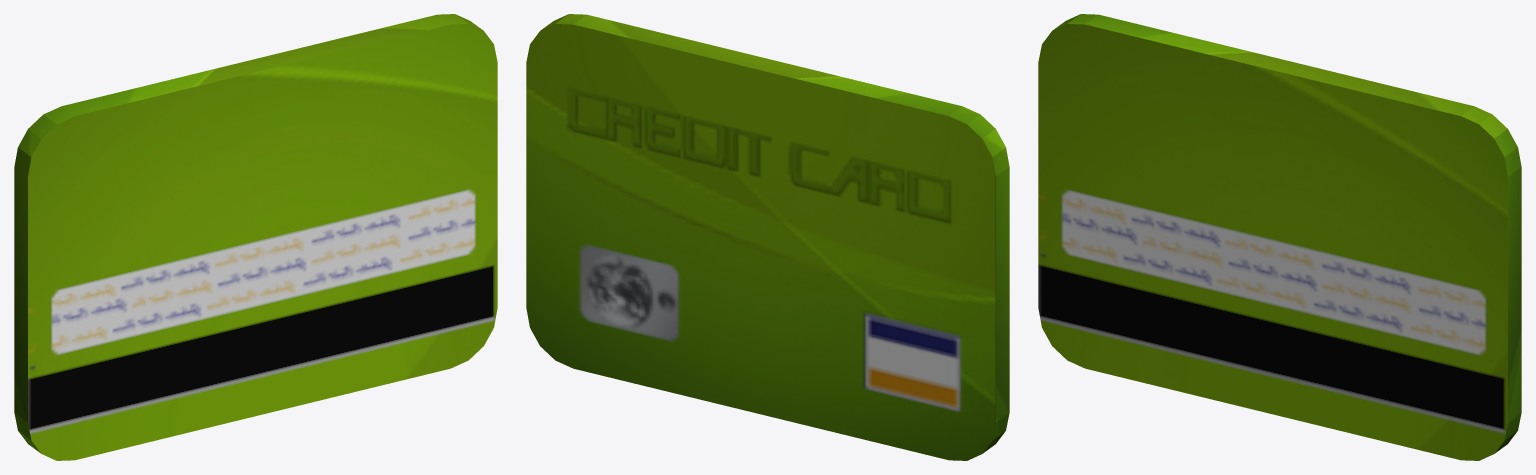
File: credit_component.fbx
3 renders of one model, left to right at view 1: azimuth 30°, elevation 25°; view 2: azimuth 150°, elevation 25°; view 3: azimuth 330°, elevation 25°, orthographic.
Parts seen in each view (by area): view 1: Cube; view 2: Cube; view 3: Cube.
Part boxes in pixels (x1,y1,x2,y2): Cube: (14, 14, 497, 460); Cube: (526, 14, 1009, 460); Cube: (1038, 14, 1521, 460).
Size of the model in its own units: 1 by 0.7 by 0.05.
